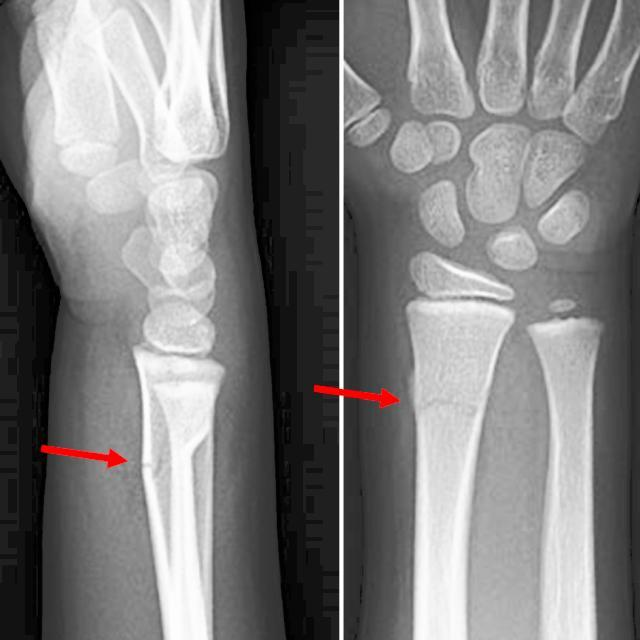GreenStick Fracture: (409, 376, 475, 424), (142, 441, 184, 485)
